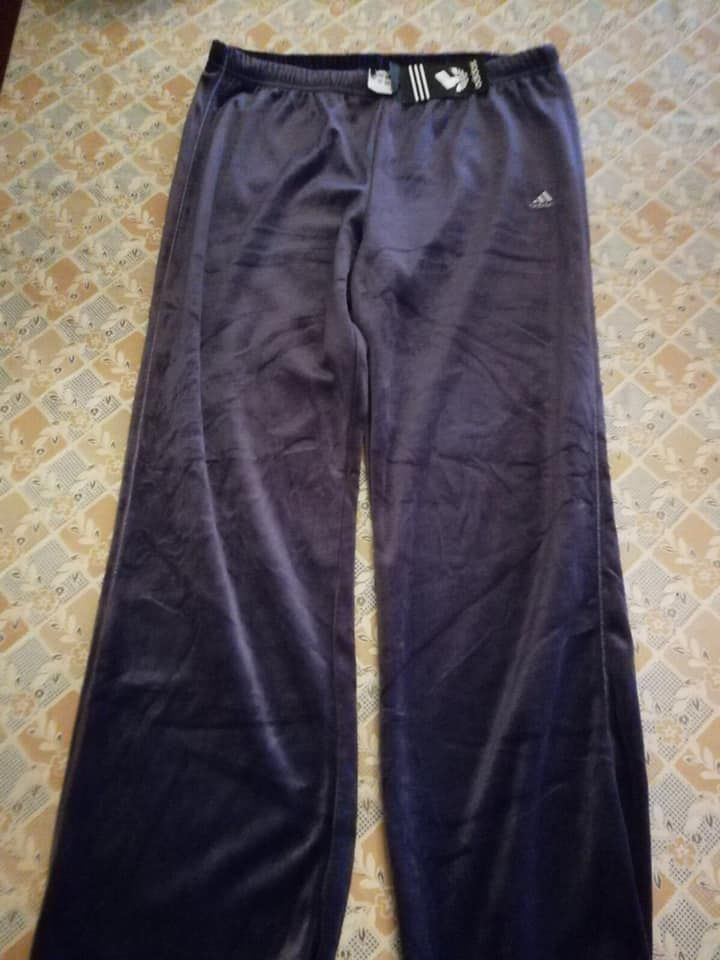clothes: (37, 43, 660, 960)
